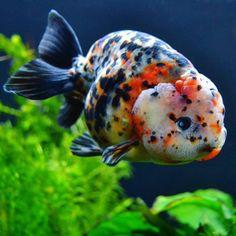goldfish: (13, 12, 231, 178)
